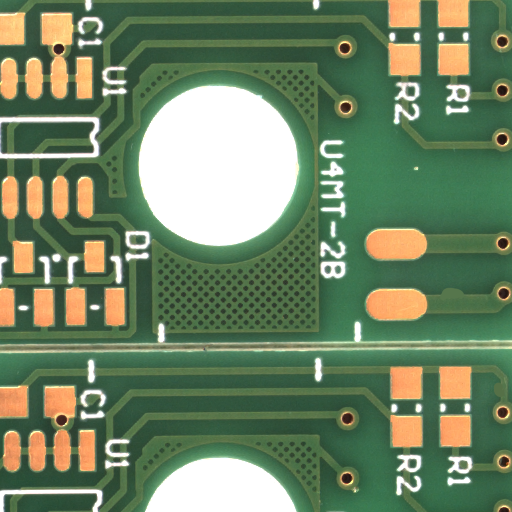Spur: (451, 293, 482, 305), (496, 389, 509, 406)
